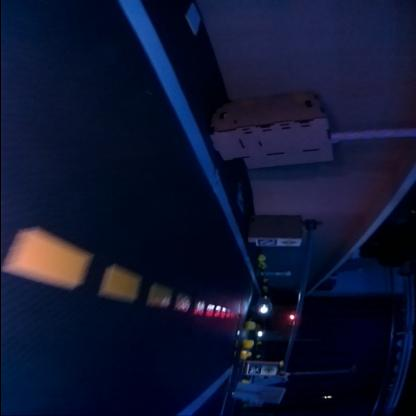Duckie: (240, 350, 250, 358), (245, 322, 255, 330), (244, 340, 254, 346), (258, 254, 266, 260)
Intersection sign: (264, 364, 274, 374)
QR code: (238, 183, 245, 211), (256, 239, 276, 245), (249, 364, 262, 372)
Traffic light: (288, 313, 296, 319)
